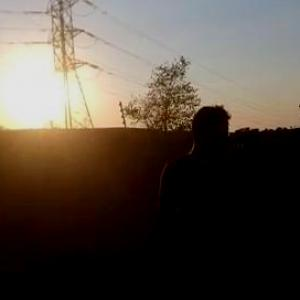follow: (153, 101, 255, 299)
